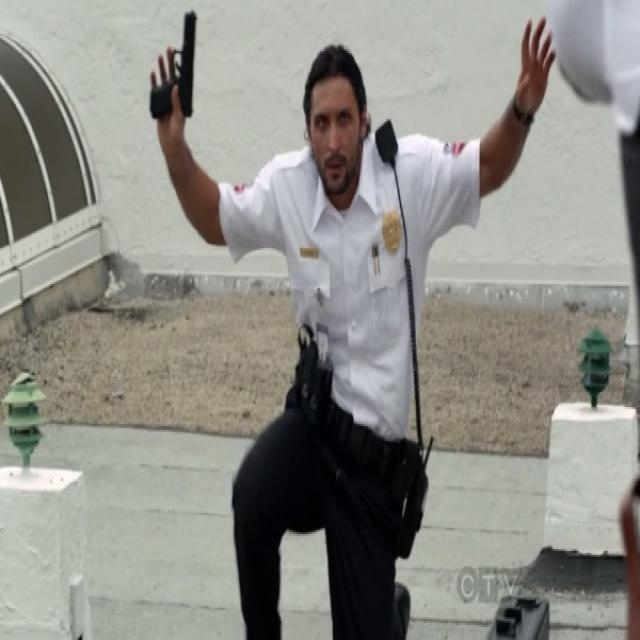weapons: (138, 0, 214, 154)
